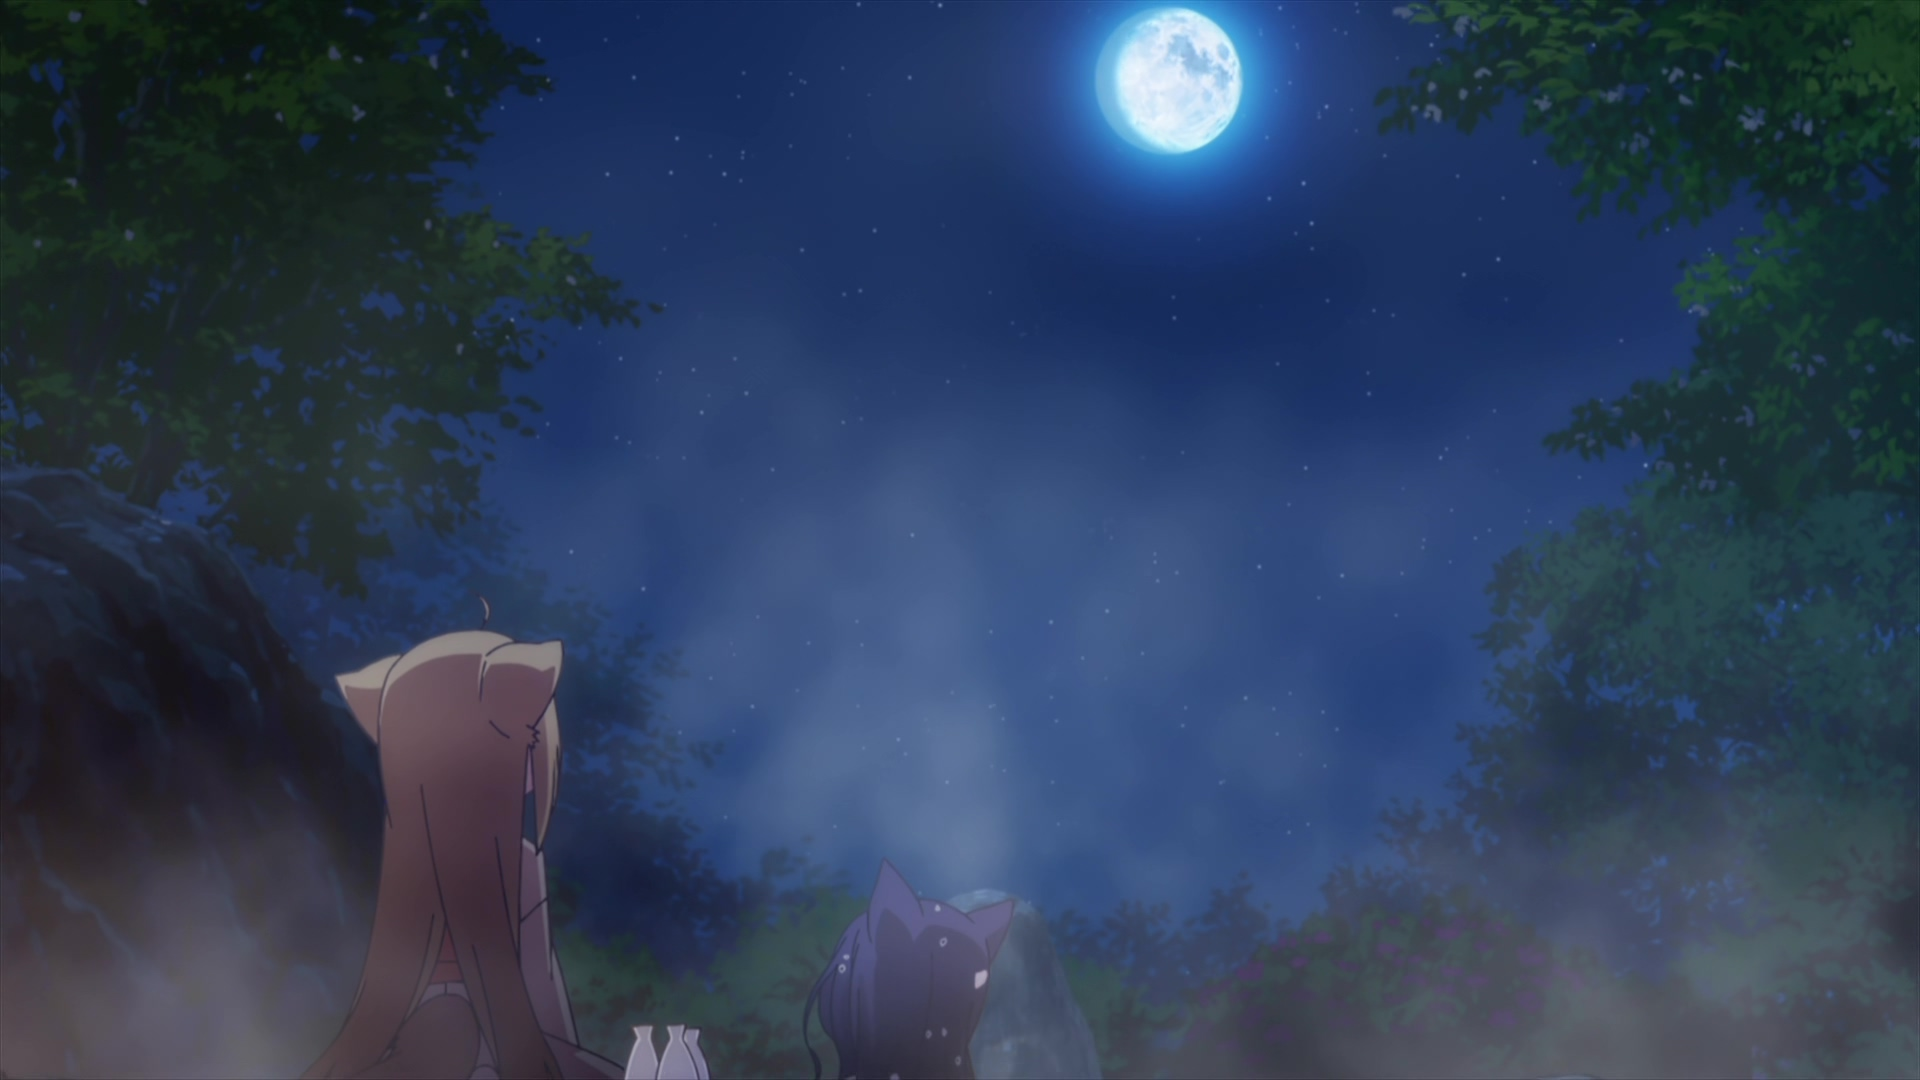柚: (301, 593, 622, 1080)
皋: (804, 861, 1017, 1080)
